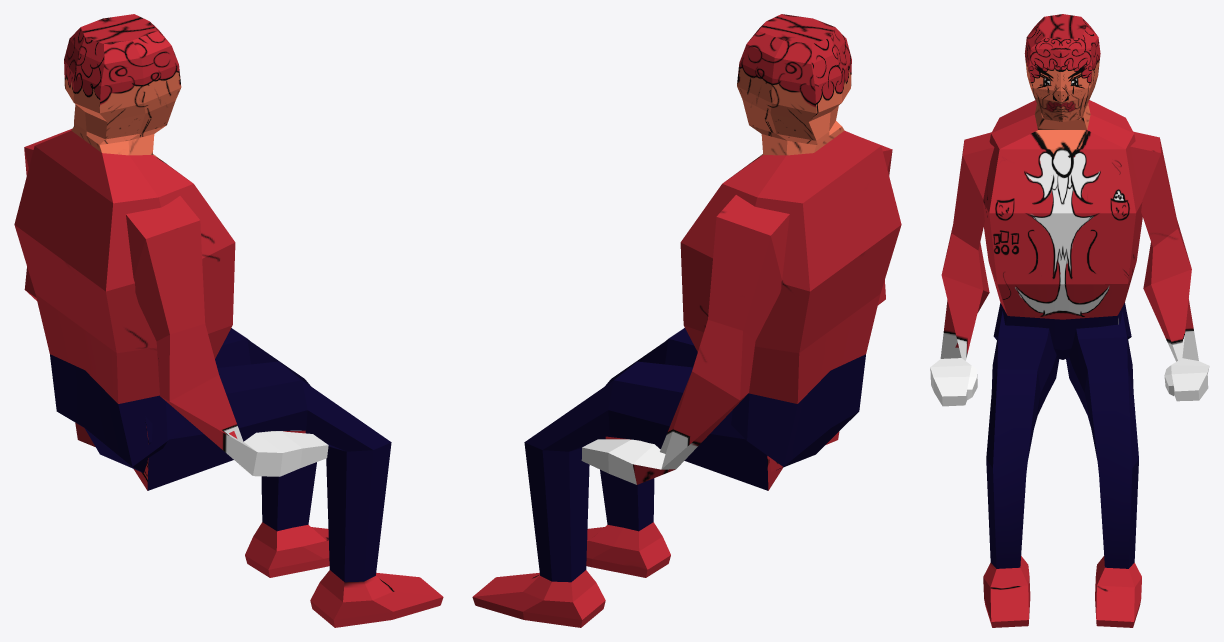
File: AssisSurFauteuil.fbx
3 views of the same model, side by side, from view 1: azimuth 30°, elevation 25°; view 2: azimuth 150°, elevation 25°; view 3: azimuth 270°, elevation 25° (orthographic). The views are drawn at different scales.
Parts seen in each view (by area): view 1: Cube.001; view 2: Cube.001; view 3: Cube.001.
Part boxes in pixels (x1,y1,x2,y2): Cube.001: (14, 14, 443, 627); Cube.001: (472, 14, 901, 627); Cube.001: (930, 14, 1209, 627).
Size of the model in its own units: 186 by 321 by 165.
